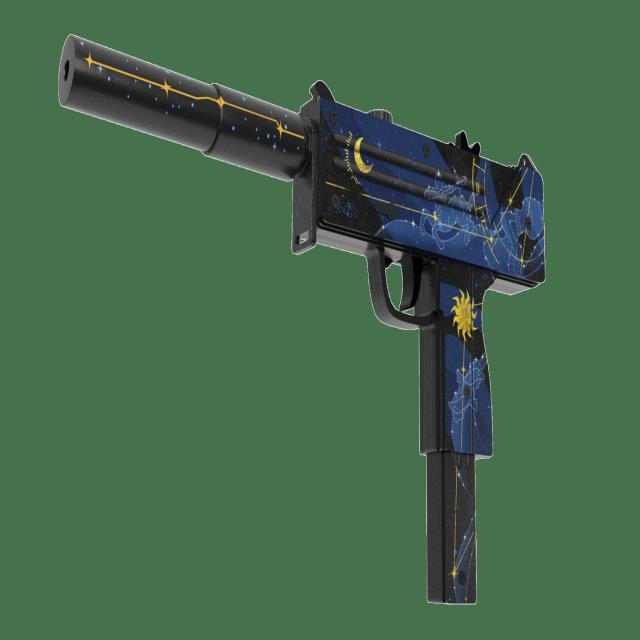firearm: (55, 28, 546, 608)
